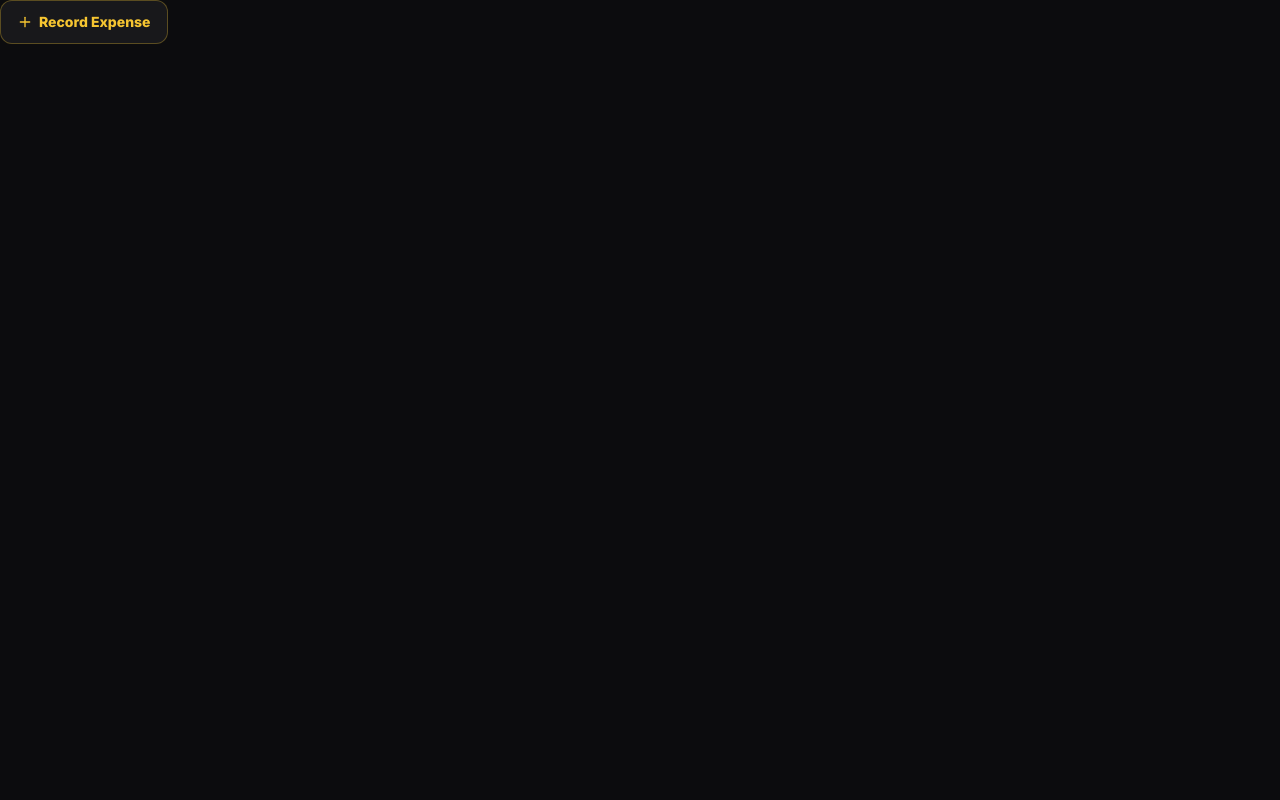
Test case: a worker's Record Expense › shows the worker their expense and nothing of the shop
Click the button "Record Expense". click: (84,22)
box: [0, 0, 168, 44]
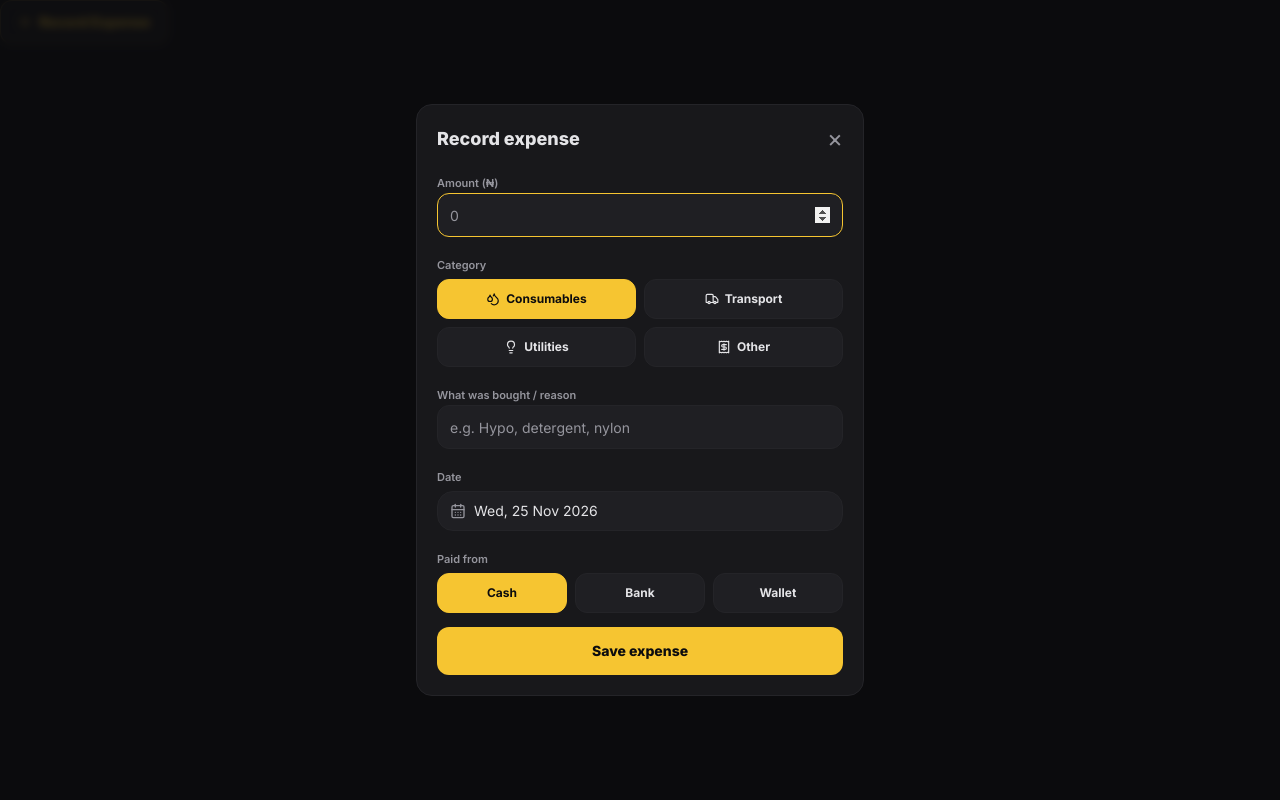
Type "200" into the number field with placeholder "0". click: (640,215)
box: [437, 193, 843, 237]
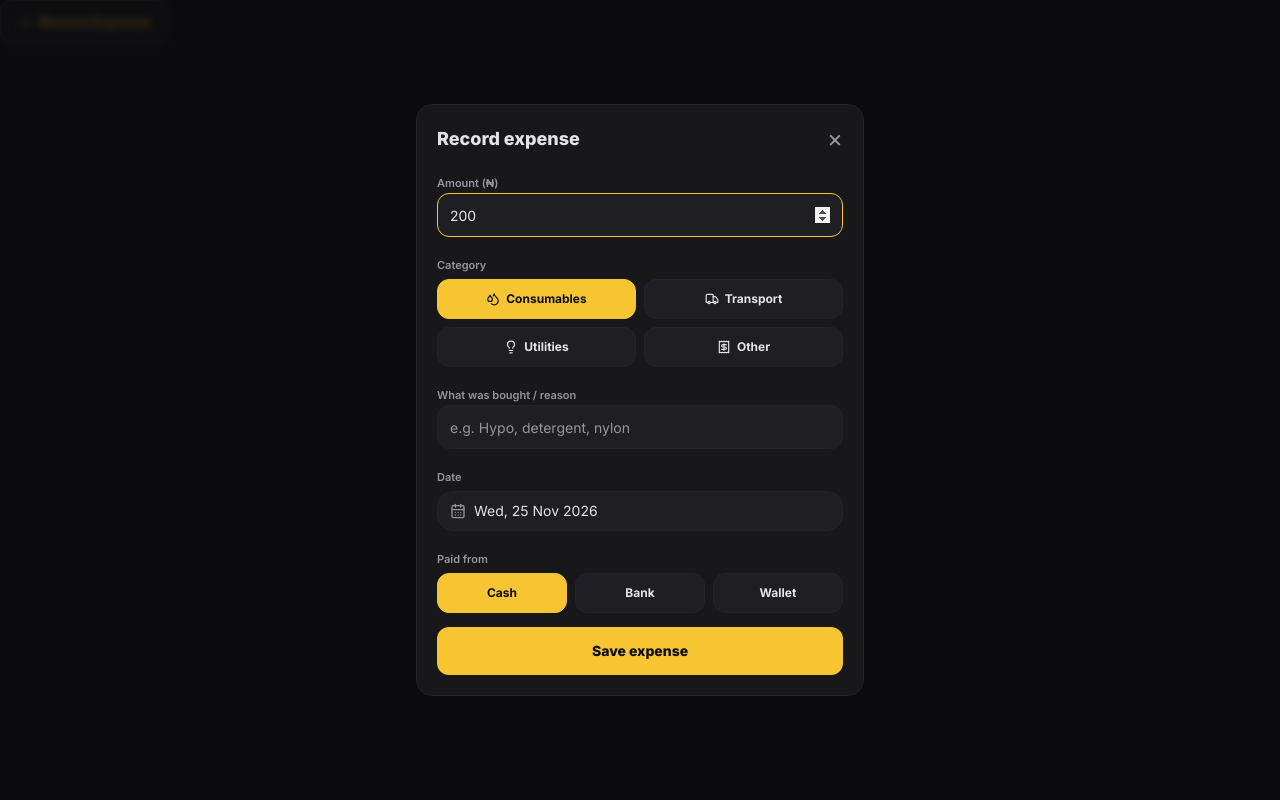
Type "Hypo" into the field with placeholder "e.g. Hypo, detergent, nylon". click: (640,427)
box: [437, 405, 843, 449]
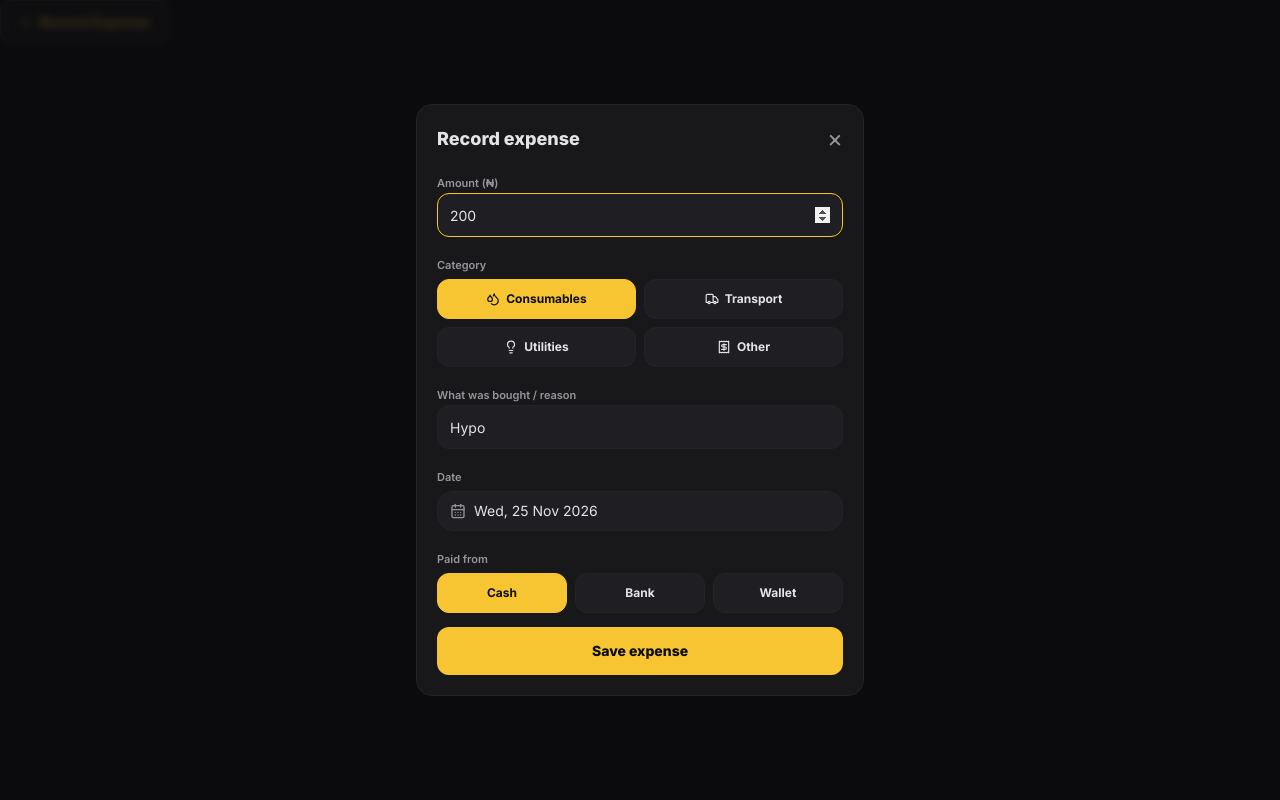
Click the button "Save expense". click: (640,651)
box: [437, 627, 843, 675]
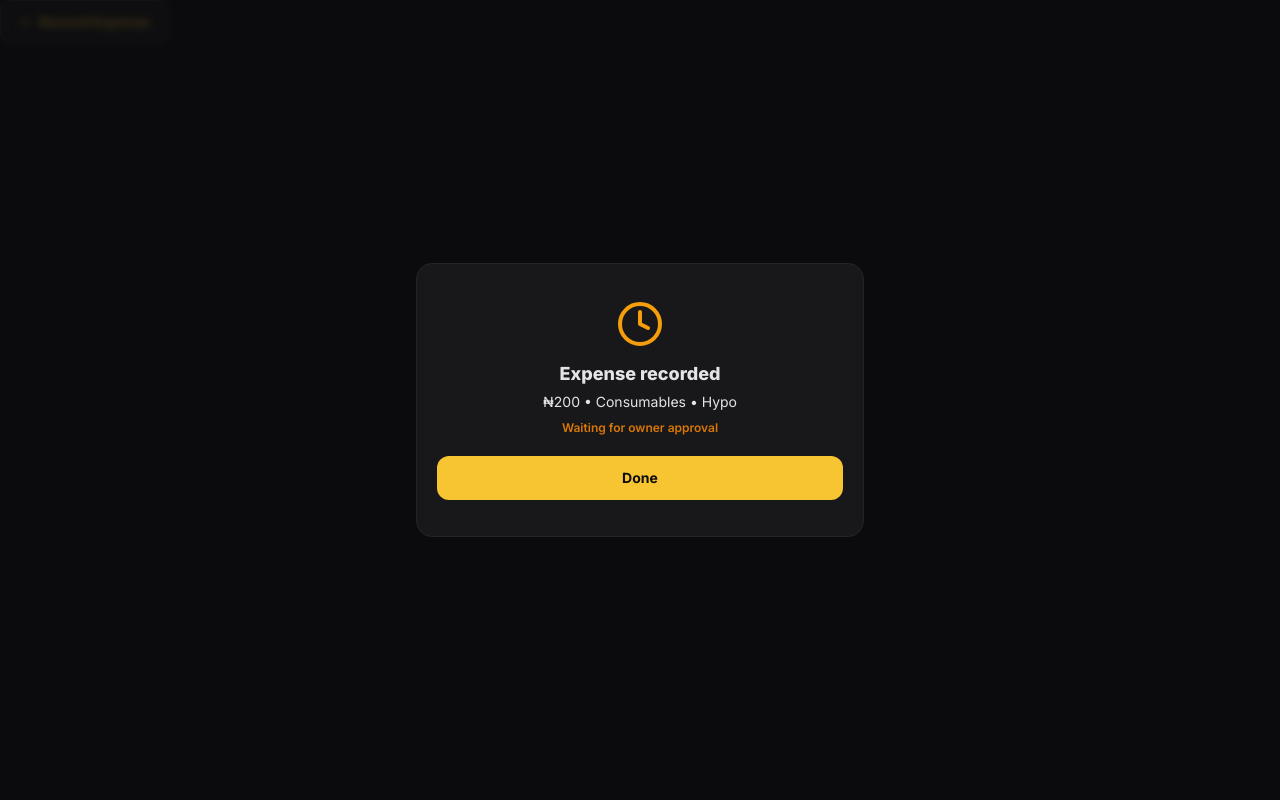
Expected: the text "Expense recorded" is shown, [560, 363, 720, 384]
Expected: the text "₦200 • Consumables • Hypo" is shown, [543, 393, 737, 410]
Expected: the text "Waiting for owner approval" is shown, [562, 420, 718, 435]
